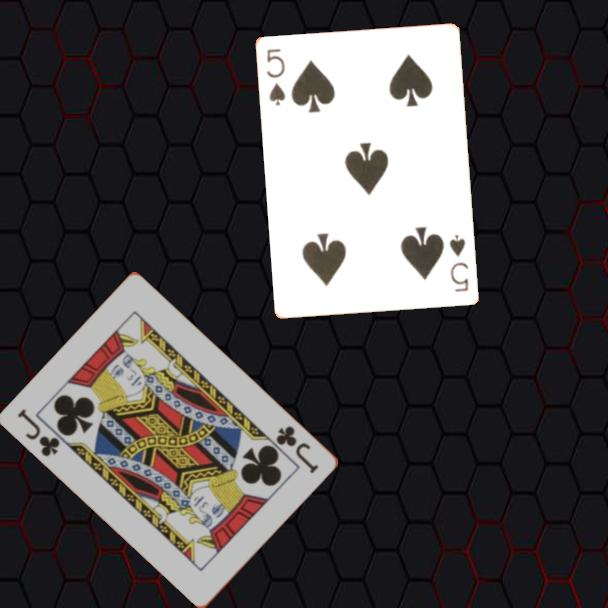c11: (273, 422, 322, 477), (14, 405, 63, 460)
s05: (446, 231, 472, 295), (263, 45, 288, 109)
